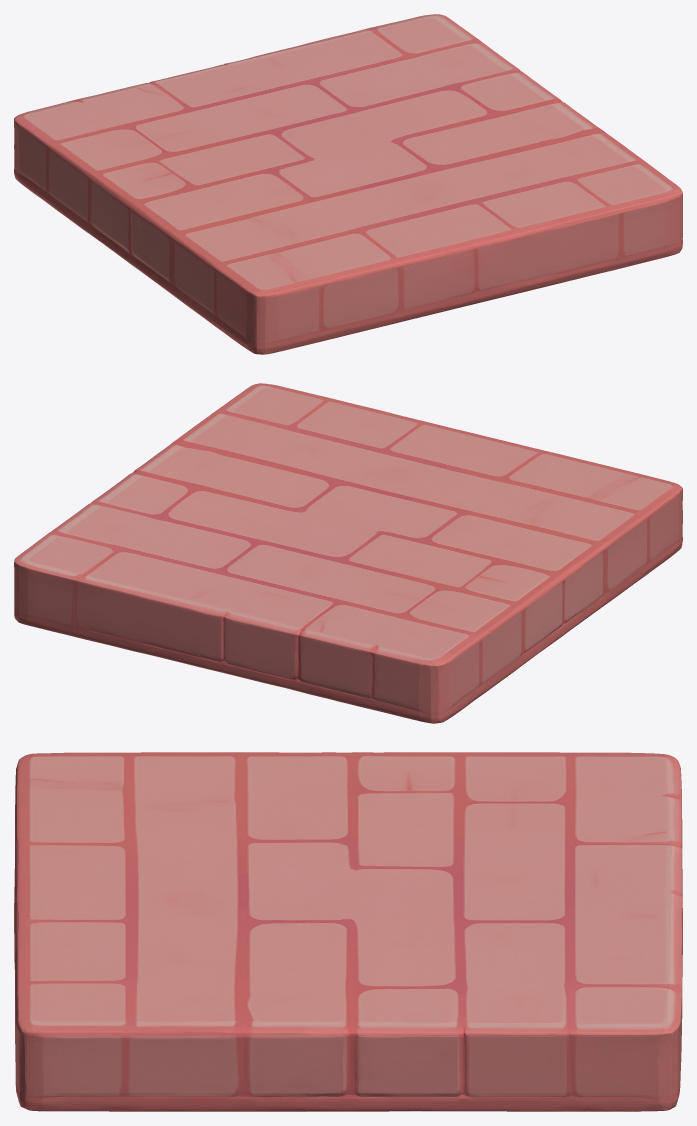
The picture shows the model from 3 angles, top to bottom: view 1: azimuth 30°, elevation 25°; view 2: azimuth 150°, elevation 25°; view 3: azimuth 270°, elevation 25°; orthographic projection. The views are drawn at different scales.
Parts seen in each view (by area): view 1: world; view 2: world; view 3: world.
Part boxes in pixels (x1=…): world: x1=14, y1=14, x2=682, y2=354; world: x1=14, y1=383, x2=682, y2=723; world: x1=14, y1=752, x2=682, y2=1111.
Size of the model in its own units: 99.55 by 13.95 by 99.81.
1 material, 1 textured.
